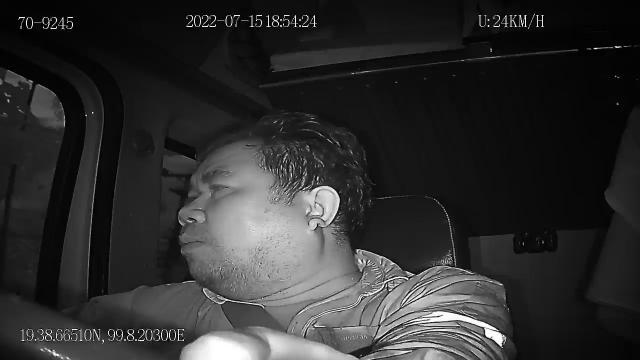Seatbelt: (220, 298, 290, 334)
